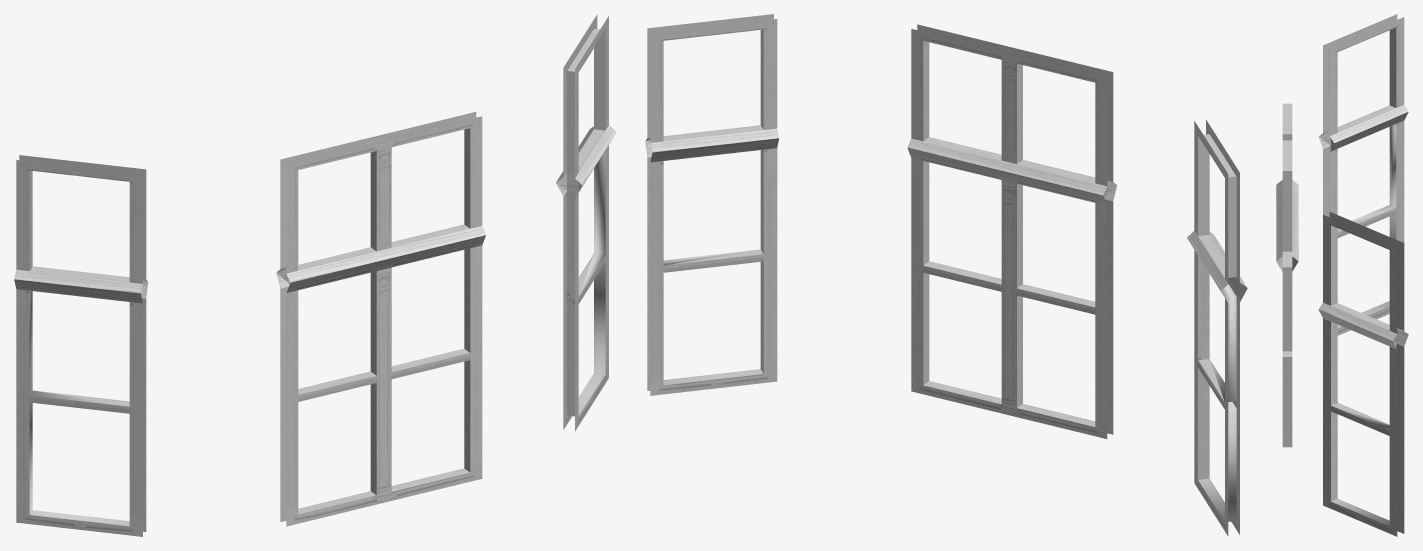
The model's file is WindowBalconyA-A.fbx.
3 renders of one model, left to right at view 1: azimuth 30°, elevation 25°; view 2: azimuth 150°, elevation 25°; view 3: azimuth 270°, elevation 25°, orthographic. The views are drawn at different scales.
Parts seen in each view (by area): view 1: WindowBalconyA-A; view 2: WindowBalconyA-A; view 3: WindowBalconyA-A.
Boxes of the visible parts, left/top/right/bottom form: WindowBalconyA-A: left=14, top=14, right=616, bottom=536; WindowBalconyA-A: left=645, top=14, right=1247, bottom=536; WindowBalconyA-A: left=1276, top=14, right=1408, bottom=536.
Size of the model in its own units: 338 by 194 by 80.34.
